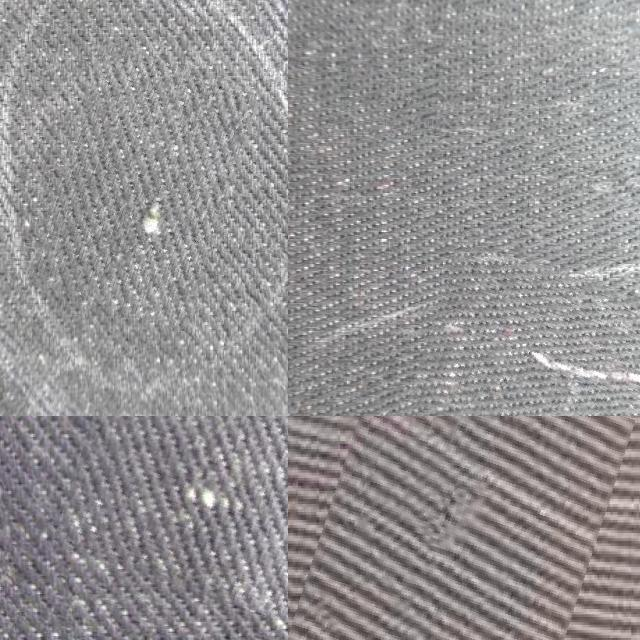stains: (304, 416, 612, 640), (42, 50, 244, 322), (67, 416, 288, 613), (414, 265, 640, 416)
